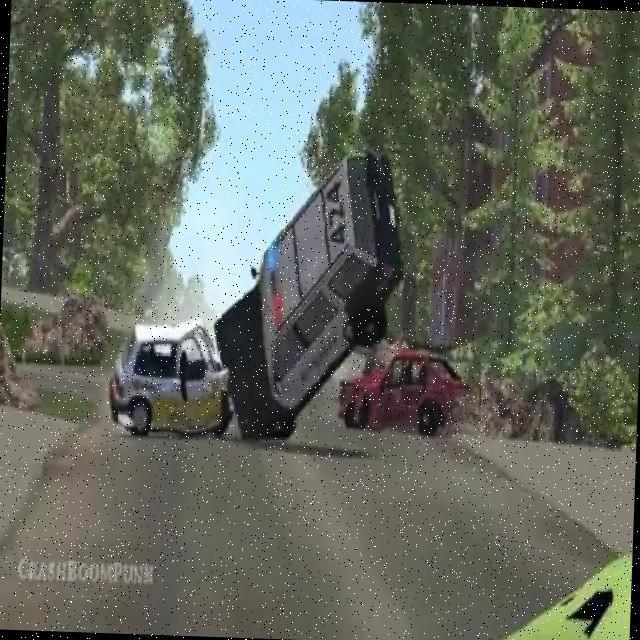accident: (138, 330, 320, 442)
